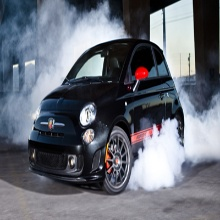no damage: (27, 38, 186, 195)
